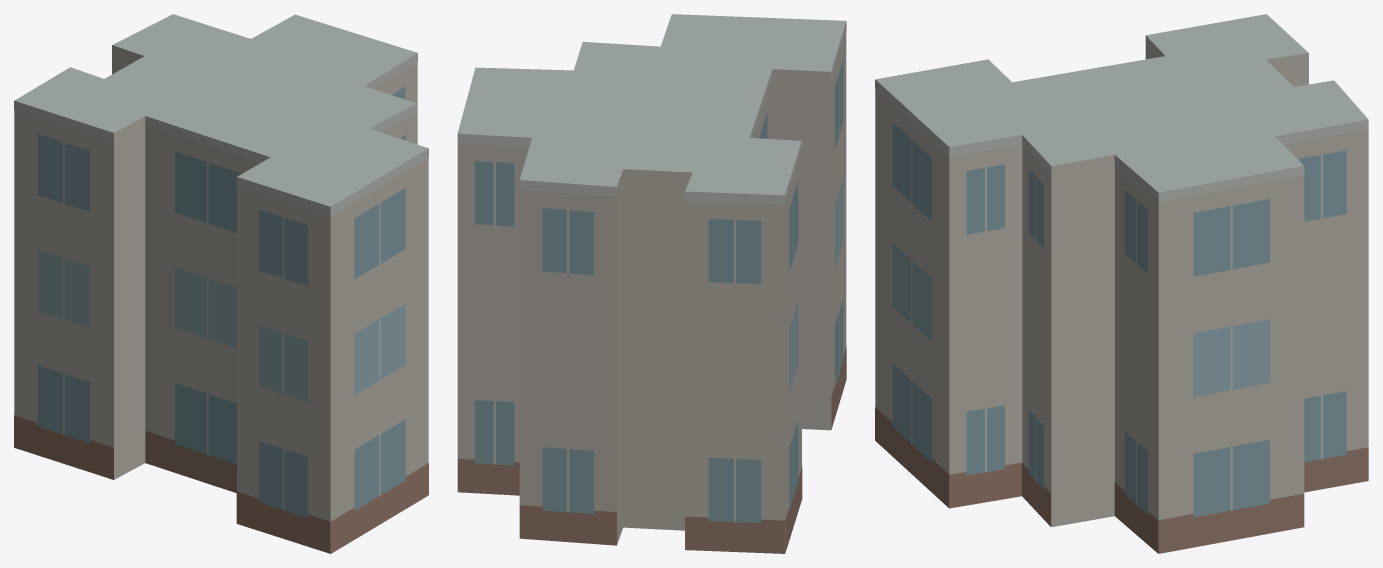
File: survey-upis-32925724.glb
3 views of the same model, side by side, from view 1: azimuth 30°, elevation 25°; view 2: azimuth 150°, elevation 25°; view 3: azimuth 270°, elevation 25° (orthographic). The views are drawn at different scales.
Visible parts, largest first — view 1: survey-upis-32925724.tmp; view 2: survey-upis-32925724.tmp; view 3: survey-upis-32925724.tmp.
Part boxes in pixels (x1,y1,x2,y2): survey-upis-32925724.tmp: (14,14,428,553); survey-upis-32925724.tmp: (457,14,846,553); survey-upis-32925724.tmp: (875,14,1368,553).
Bounding box in the file's own units: 9.71 × 9.15 × 11.34.
